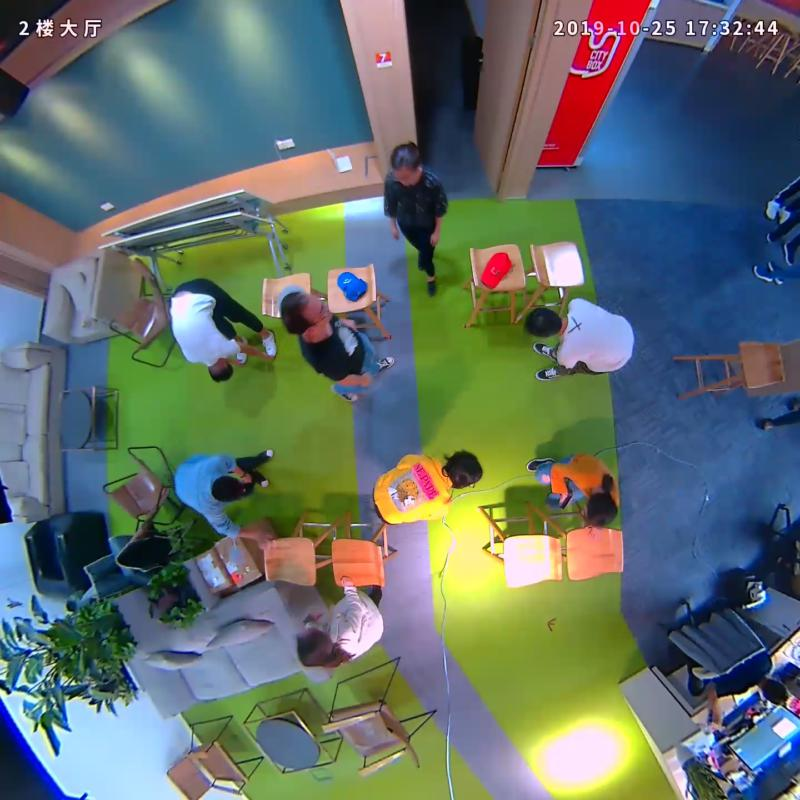head: (274, 289, 334, 336), (291, 624, 342, 672), (382, 137, 429, 188), (440, 443, 486, 494), (576, 484, 622, 532), (519, 304, 569, 344), (205, 471, 255, 507), (197, 352, 241, 388)
